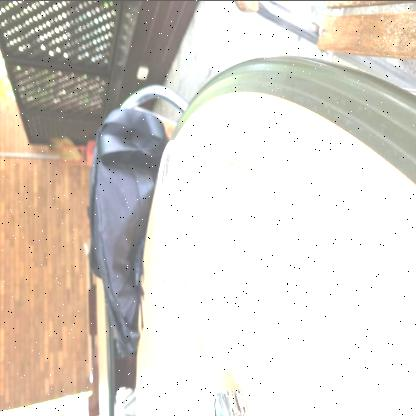Others: (152, 132, 312, 310)
